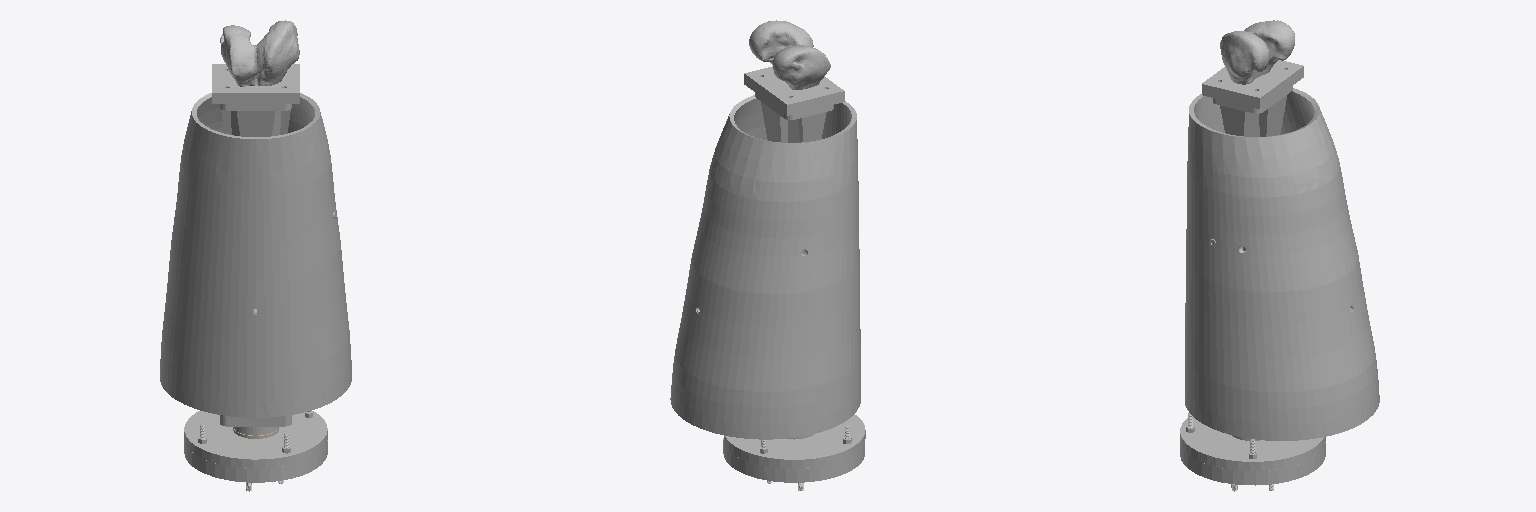
The robot description file, URDF, robot "brace_top_setup":
<?xml version="1.0" encoding="utf-8"?>
<!-- This URDF was automatically created by SolidWorks to URDF Exporter! Originally created by [author] ([email redacted]) 
     Commit Version: 1.6.0-4-g7f85cfe  Build Version: 1.6.7995.38578
     For more information, please see http://wiki.ros.org/sw_urdf_exporter -->
<robot
  name="brace_top_setup">
  <link
    name="base_link">
    <inertial>
      <origin
        xyz="-1.73451882432563E-05 -1.73451766093957E-05 0.0124319841849433"
        rpy="0 0 0" />
      <mass
        value="0.484520226346476" />
      <inertia
        ixx="0.000593462876483837"
        ixy="1.41512778058239E-15"
        ixz="1.63392009068906E-14"
        iyy="0.000593462876646573"
        iyz="8.65419307429367E-15"
        izz="0.00116993054766495" />
    </inertial>
    <visual>
      <origin
        xyz="0 0 0"
        rpy="0 0 0" />
      <geometry>
        <mesh
          filename="package://brace_top_setup/meshes/base_link.STL" />
      </geometry>
      <material
        name="">
        <color
          rgba="0.752941176470588 0.752941176470588 0.752941176470588 1" />
      </material>
    </visual>
    <collision>
      <origin
        xyz="0 0 0"
        rpy="0 0 0" />
      <geometry>
        <mesh
          filename="package://brace_top_setup/meshes/base_link.STL" />
      </geometry>
    </collision>
  </link>
  <link
    name="Link1">
    <inertial>
      <origin
        xyz="1.13952477369672E-05 6.09143125082645E-06 -0.00775008007920568"
        rpy="0 0 0" />
      <mass
        value="0.144521976607445" />
      <inertia
        ixx="2.31497032446631E-05"
        ixy="3.3256520782418E-08"
        ixz="-2.70019071568062E-09"
        iyy="2.31765300111381E-05"
        iyz="-1.83348553501547E-08"
        izz="3.99089353738949E-05" />
    </inertial>
    <visual>
      <origin
        xyz="0 0 0"
        rpy="0 0 0" />
      <geometry>
        <mesh
          filename="package://brace_top_setup/meshes/Link1.STL" />
      </geometry>
      <material
        name="">
        <color
          rgba="0.776470588235294 0.756862745098039 0.737254901960784 1" />
      </material>
    </visual>
    <collision>
      <origin
        xyz="0 0 0"
        rpy="0 0 0" />
      <geometry>
        <mesh
          filename="package://brace_top_setup/meshes/Link1.STL" />
      </geometry>
    </collision>
  </link>
  <joint
    name="Joint1"
    type="fixed">
    <origin
      xyz="0 0 0.0249999999998006"
      rpy="-3.14159265358979 0 -0.523598775598296" />
    <parent
      link="base_link" />
    <child
      link="Link1" />
    <axis
      xyz="0 0 0" />
  </joint>
  <link
    name="Link2">
    <inertial>
      <origin
        xyz="4.72761443293113E-06 -0.0131814609095959 0.174117725427238"
        rpy="0 0 0" />
      <mass
        value="1.56069403714808" />
      <inertia
        ixx="0.01149041333847"
        ixy="3.39984466191005E-07"
        ixz="3.56331908646349E-09"
        iyy="0.0114742990366078"
        iyz="0.000662614925298892"
        izz="0.00651405622369734" />
    </inertial>
    <visual>
      <origin
        xyz="0 0 0"
        rpy="0 0 0" />
      <geometry>
        <mesh
          filename="package://brace_top_setup/meshes/Link2.STL" />
      </geometry>
      <material
        name="">
        <color
          rgba="0.752941176470588 0.752941176470588 0.752941176470588 1" />
      </material>
    </visual>
    <collision>
      <origin
        xyz="0 0 0"
        rpy="0 0 0" />
      <geometry>
        <mesh
          filename="package://brace_top_setup/meshes/Link2.STL" />
      </geometry>
    </collision>
  </link>
  <joint
    name="Joint2"
    type="fixed">
    <origin
      xyz="0 0 -0.365748000000057"
      rpy="0 0 0" />
    <parent
      link="Link1" />
    <child
      link="Link2" />
    <axis
      xyz="0 0 0" />
  </joint>
</robot>

--- What the picture shows (computed from the rendered views, not written in the file) ---
3 views of the same robot in one strip: view 1: azimuth 30°, elevation 25°; view 2: azimuth 150°, elevation 25°; view 3: azimuth 270°, elevation 25° (orthographic).
Model brace_top_setup with 3 links and 2 joints (2 fixed), rooted at base_link, posed every joint at zero.
Visible links, largest first — view 1: Link2, base_link; view 2: Link2, base_link; view 3: Link2, base_link.
Boxes of the visible links, bbox=[...] form: Link2: bbox=[160, 20, 351, 426]; base_link: bbox=[184, 411, 327, 491]; Link2: bbox=[670, 20, 860, 439]; base_link: bbox=[723, 414, 865, 490]; Link2: bbox=[1185, 20, 1379, 440]; base_link: bbox=[1180, 413, 1325, 491].
Size in the robot's own frame: 0.1877 by 0.192 by 0.4883 metres.
3 mesh visuals loaded from 3 distinct referenced files (3 binary STL).